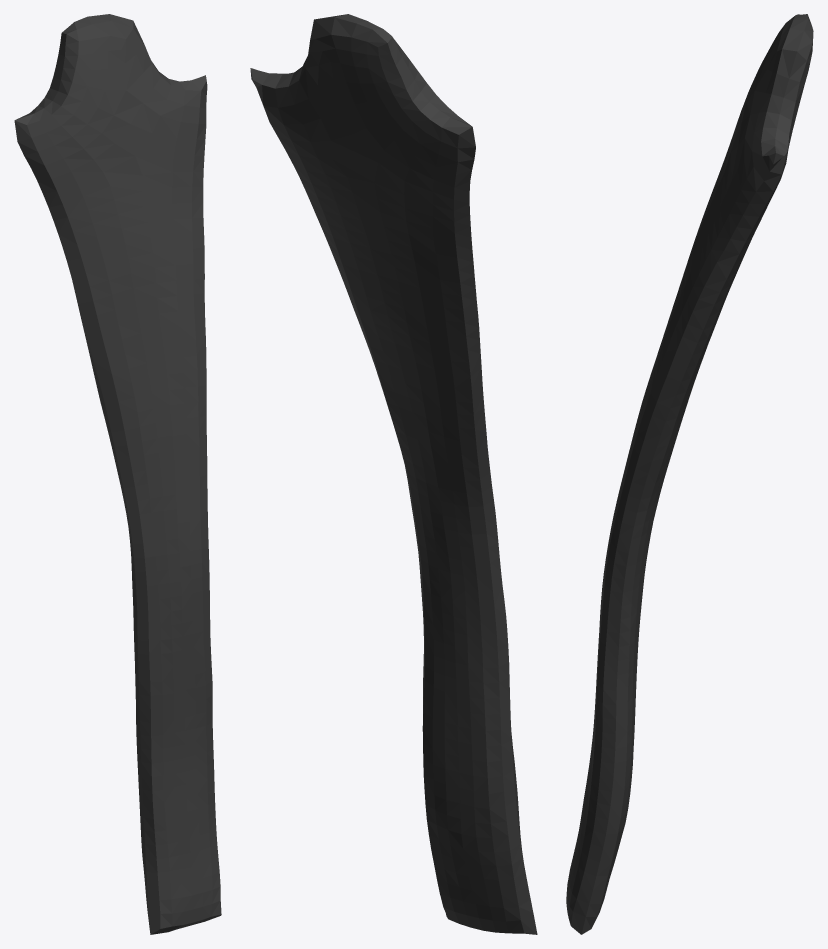
The model's file is Straight_ses.glb.
3 views of the same model, side by side, from view 1: azimuth 30°, elevation 25°; view 2: azimuth 150°, elevation 25°; view 3: azimuth 270°, elevation 25° (orthographic). The views are drawn at different scales.
Parts seen in each view (by area): view 1: Straight_ses; view 2: Straight_ses; view 3: Straight_ses.
Boxes of the visible parts, bbox=[...] form: Straight_ses: bbox=[14, 14, 221, 934]; Straight_ses: bbox=[250, 14, 537, 934]; Straight_ses: bbox=[566, 14, 813, 934].
Size of the model in its own units: 0.895 by 3.76 by 0.9334.
1 material, 1 textured.
